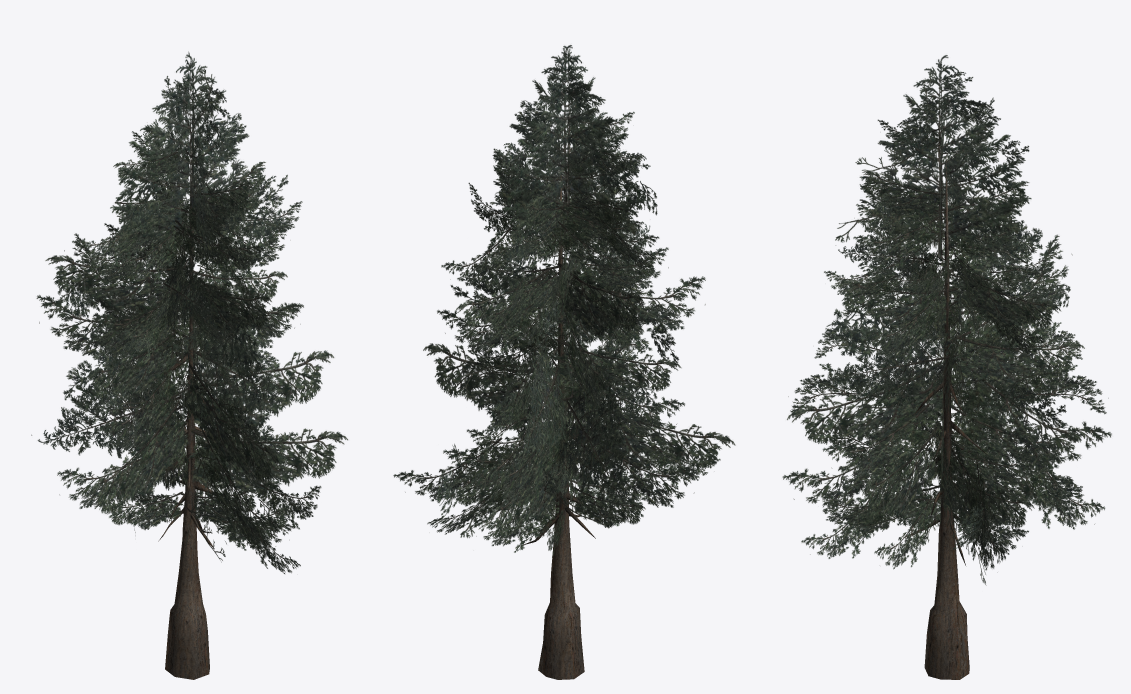
File: pine1.glb
3 views of the same model, side by side, from view 1: azimuth 30°, elevation 25°; view 2: azimuth 150°, elevation 25°; view 3: azimuth 270°, elevation 25° (orthographic).
Visible parts, largest first — view 1: Tree_Branches_01.002, Tree_Trunk_01.002; view 2: Tree_Branches_01.002, Tree_Trunk_01.002; view 3: Tree_Branches_01.002, Tree_Trunk_01.002.
Boxes of the visible parts, bbox=[...] form: Tree_Branches_01.002: bbox=[31, 51, 347, 573]; Tree_Trunk_01.002: bbox=[145, 151, 215, 679]; Tree_Branches_01.002: bbox=[393, 45, 735, 557]; Tree_Trunk_01.002: bbox=[523, 149, 600, 679]; Tree_Branches_01.002: bbox=[782, 55, 1111, 585]; Tree_Trunk_01.002: bbox=[903, 154, 992, 679].
Size of the model in its own units: 10.06 by 20.1 by 10.07.
2 materials, 2 textured.
